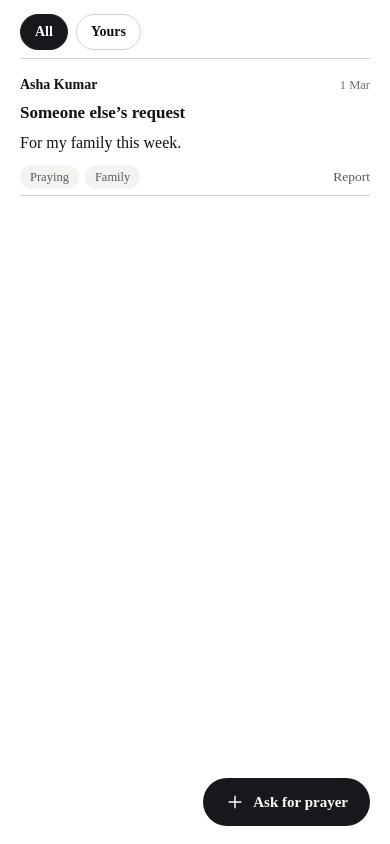
Test: All | Yours › stops at the end of the wall even when an index entry is never found
Check: the text "Someone else’s request" is shown, box [20, 103, 185, 122]
Click the button with test id "prayer-wall-filter-yours". click: (108, 32)
box: [76, 14, 141, 50]
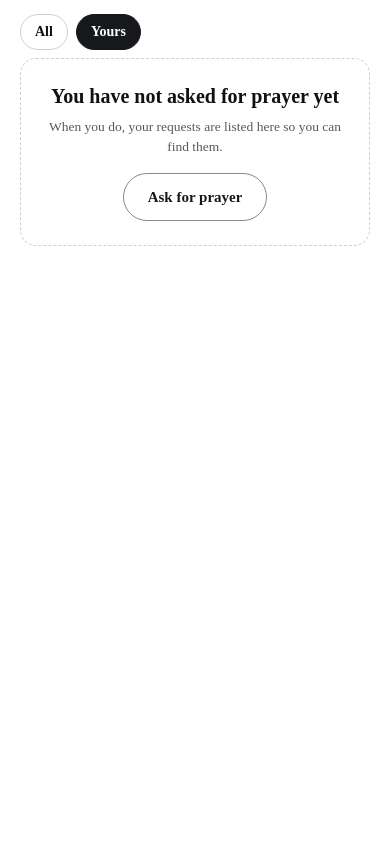
Check: the element with test id "prayer-wall-no-own" is shown, box [20, 58, 370, 246]
